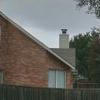Chimney: (54, 19, 74, 51)
